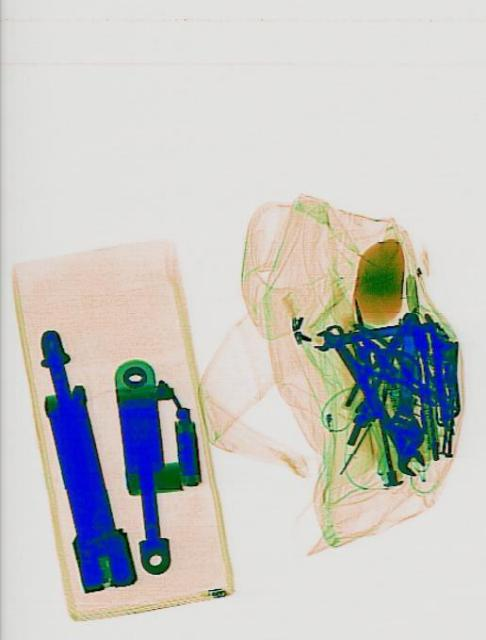Wrench: (315, 316, 426, 482), (312, 314, 421, 352)
